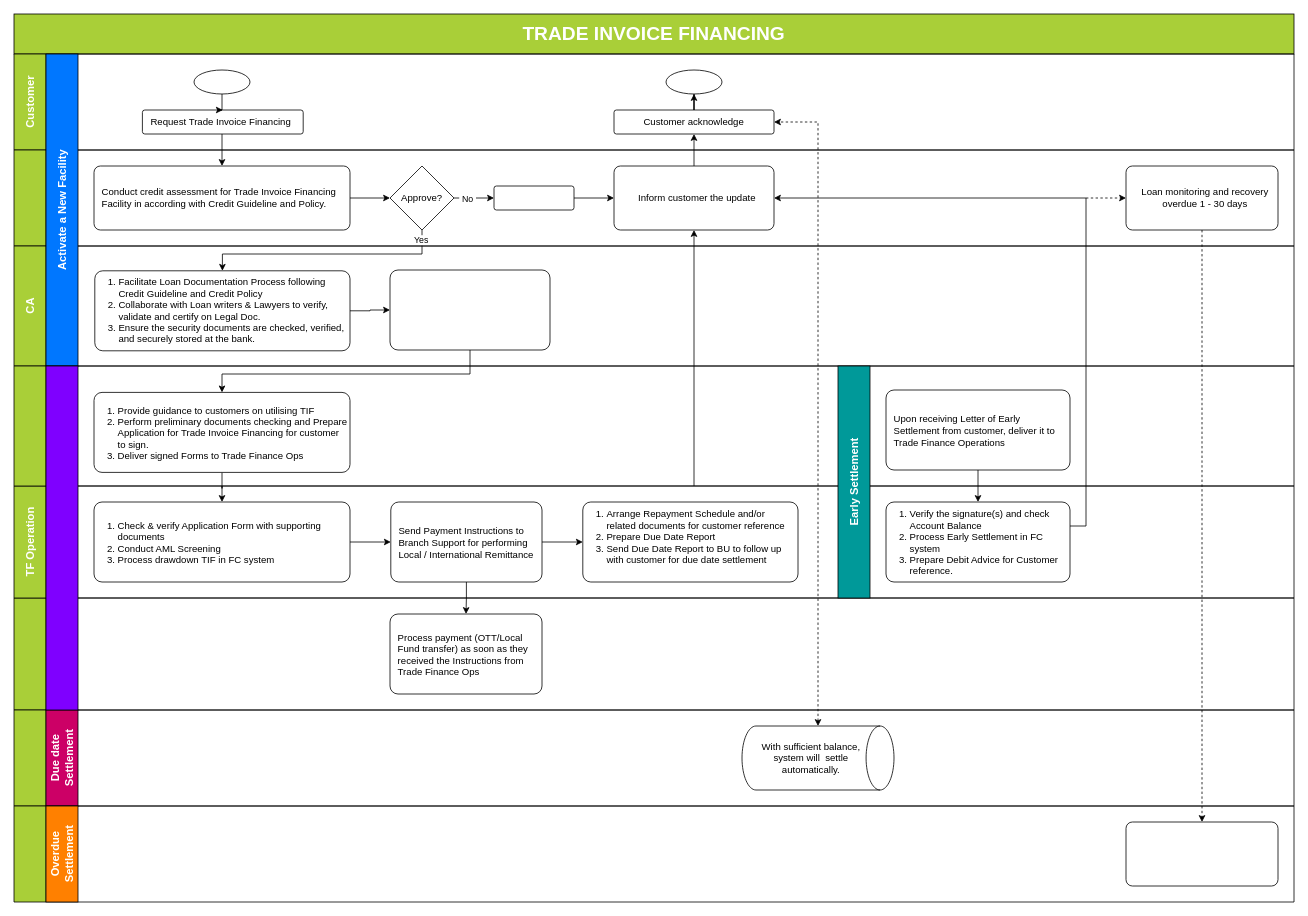
The diagram is 1308 pixels wide and 916 high, and some of its shapes have lost their labels. Each missing label, with the box of its shape:
Activate/Create a Trade Invoice Financing Facility in FC system.: (389, 269, 550, 350)
Branch Support: (13, 597, 1294, 710)
BU: (13, 149, 1294, 246)
Draw down: (45, 365, 78, 710)
End: (665, 69, 722, 94)
FC System: (13, 709, 1294, 806)
Loan recovery overdue > 30 days: (1125, 821, 1278, 886)
Monitoring and Recovery: (13, 805, 1294, 902)
Reject: (493, 185, 574, 210)
Start: (193, 69, 250, 94)
TF SALES & Advisory: (13, 365, 1294, 486)
